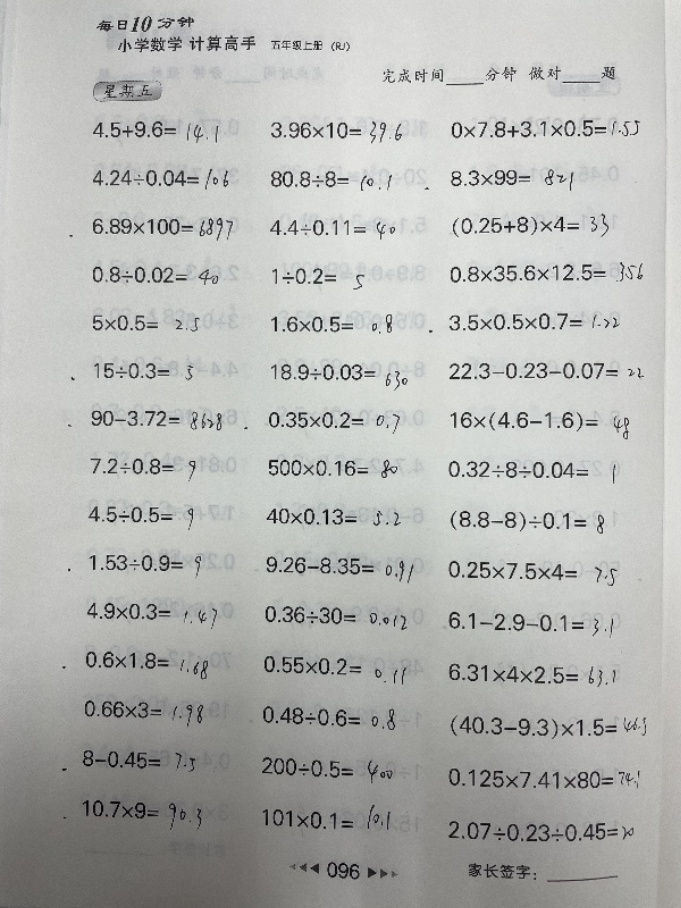equation: (442, 708, 654, 750), (443, 255, 651, 296), (445, 762, 646, 801), (442, 556, 620, 596), (442, 455, 624, 494), (445, 355, 646, 388), (445, 815, 637, 849), (261, 648, 410, 691), (444, 403, 632, 437), (447, 117, 647, 148), (77, 794, 209, 839), (258, 701, 401, 742), (81, 595, 236, 630), (436, 607, 616, 637), (259, 600, 426, 632), (447, 209, 613, 241), (442, 658, 619, 688), (443, 311, 627, 339), (82, 646, 216, 684), (257, 753, 397, 788), (444, 505, 607, 535), (260, 550, 417, 581), (264, 356, 412, 388), (87, 213, 237, 244), (76, 742, 202, 777), (87, 310, 211, 345), (259, 805, 396, 836), (262, 406, 403, 436), (87, 165, 233, 193), (263, 263, 372, 300), (81, 699, 207, 731), (266, 117, 405, 146), (445, 161, 575, 191), (263, 454, 402, 482), (267, 310, 400, 339), (84, 548, 204, 580), (261, 502, 403, 529), (85, 404, 225, 431), (87, 115, 221, 143), (86, 260, 221, 286), (264, 165, 394, 192), (264, 215, 398, 241), (84, 452, 199, 482), (83, 501, 196, 531), (89, 356, 195, 382)
